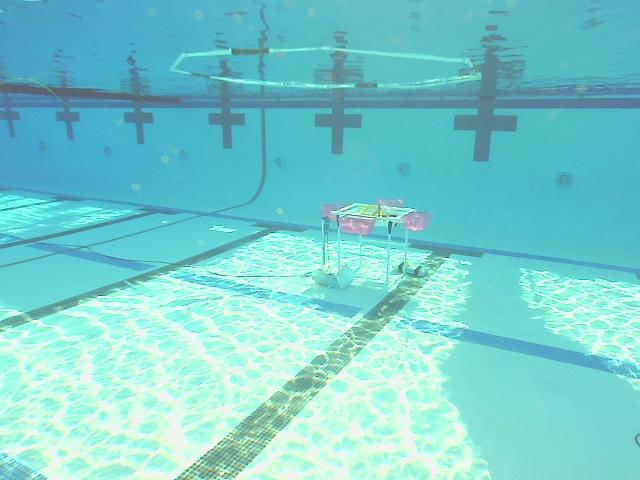table: (312, 198, 433, 297)
